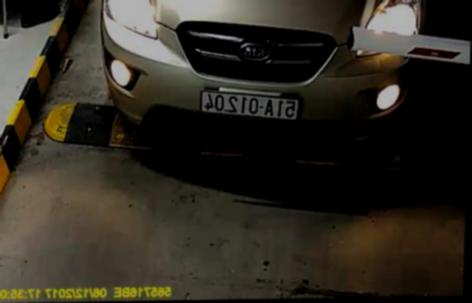License_Plate: (196, 87, 303, 123)
